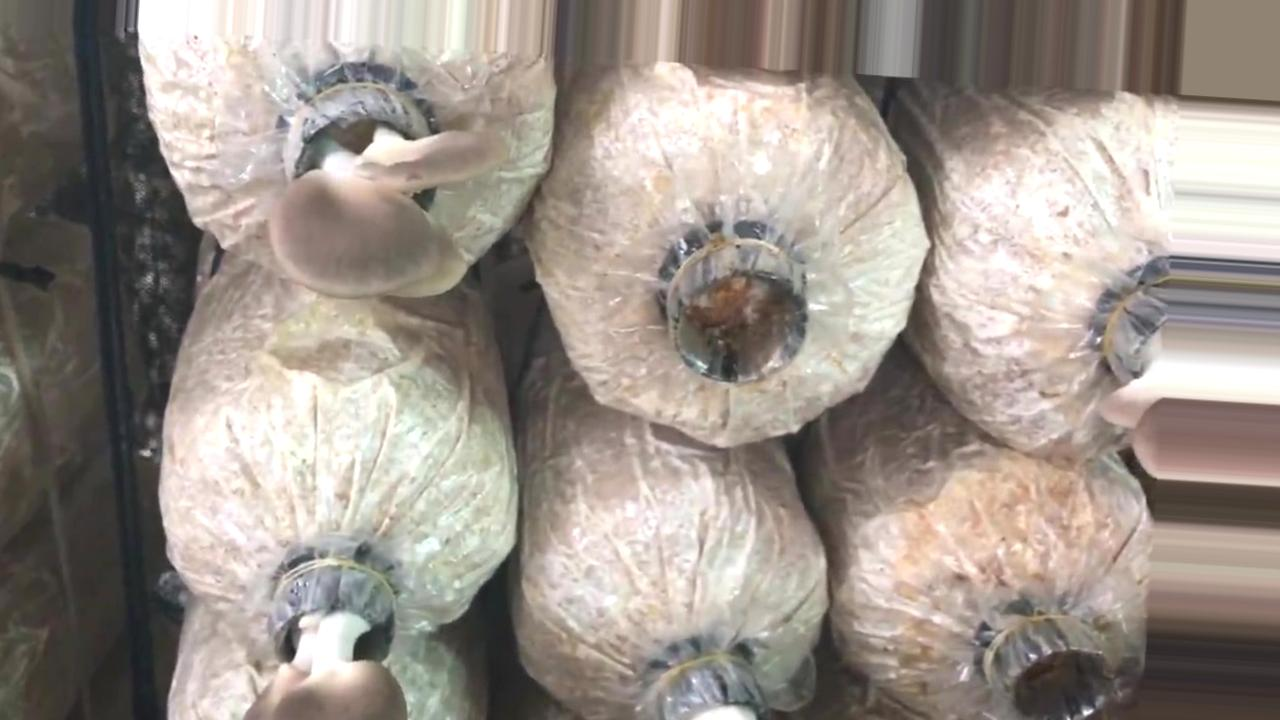nam: (268, 60, 506, 300), (1096, 266, 1280, 480), (244, 543, 411, 720)
